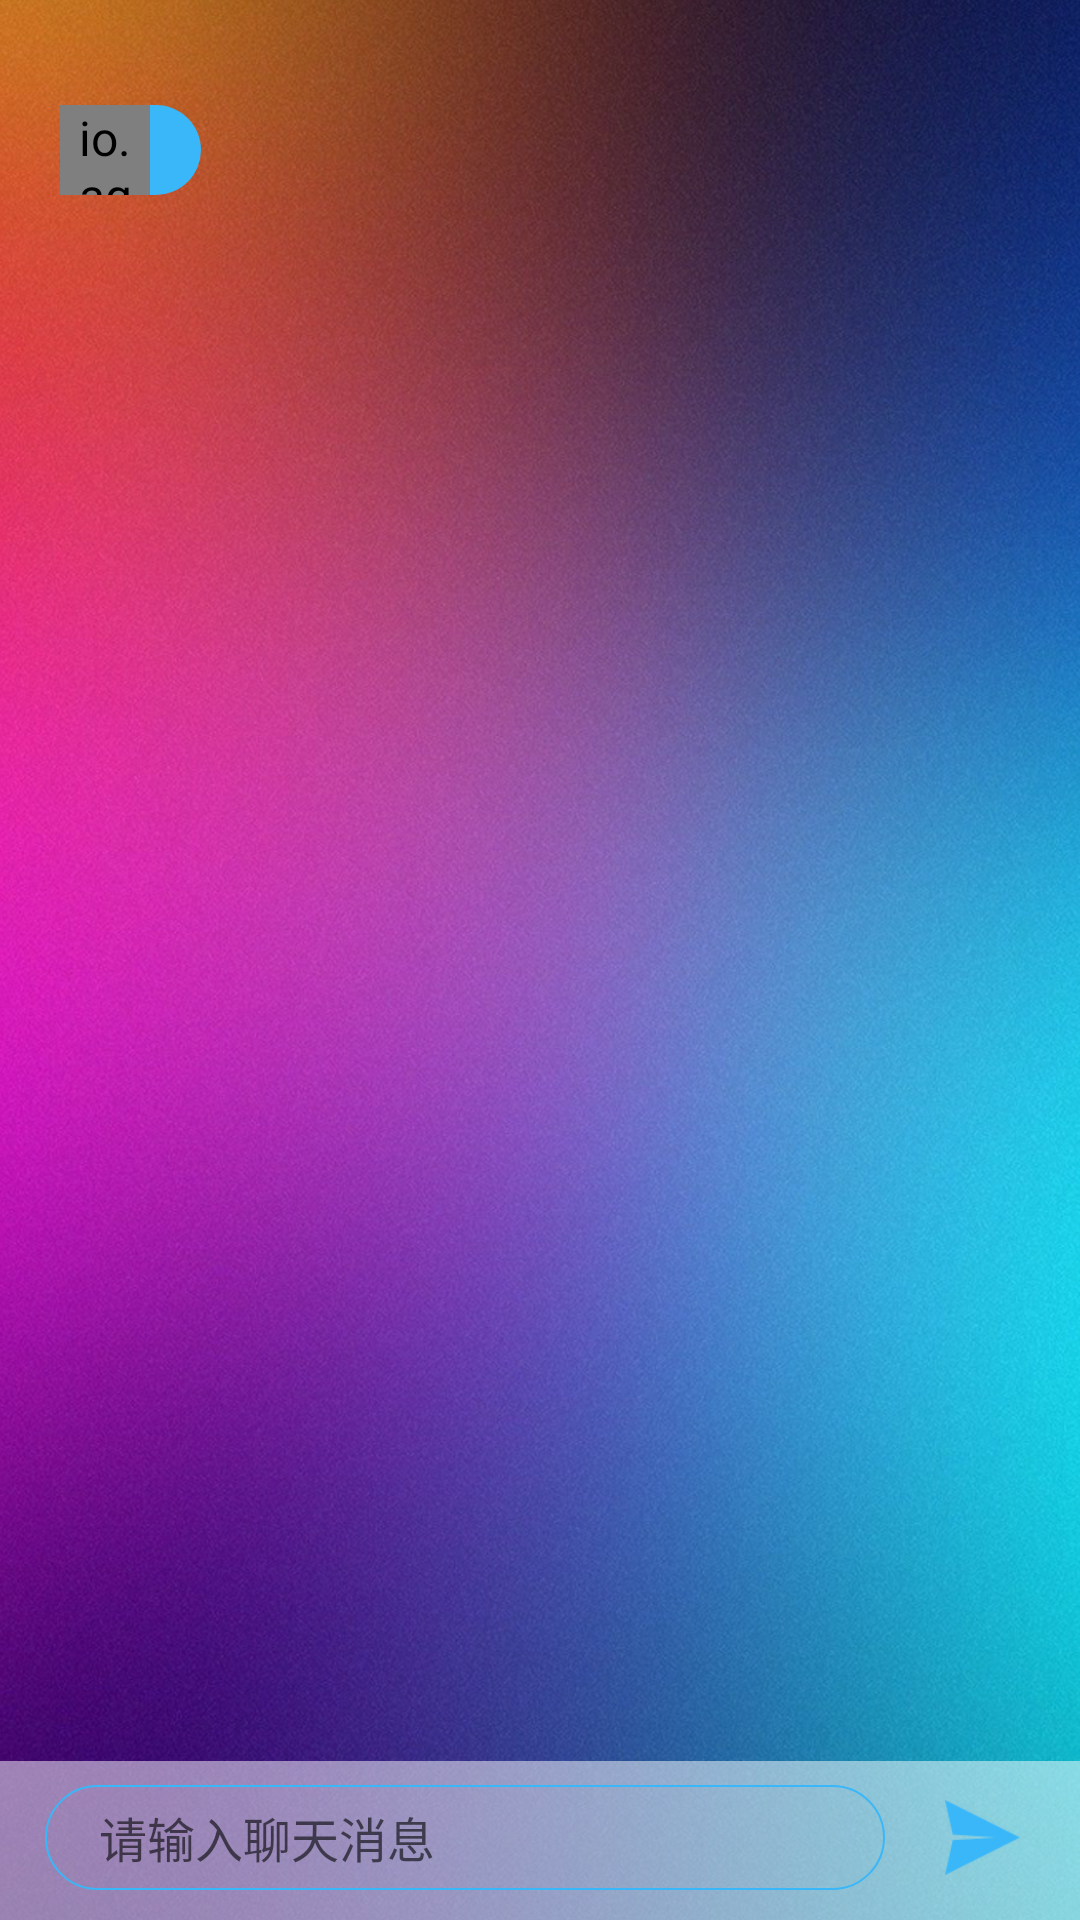

Screen size 1080×1920. Icon name, then its center in pixels as (x,y):
send: (982,1837)
